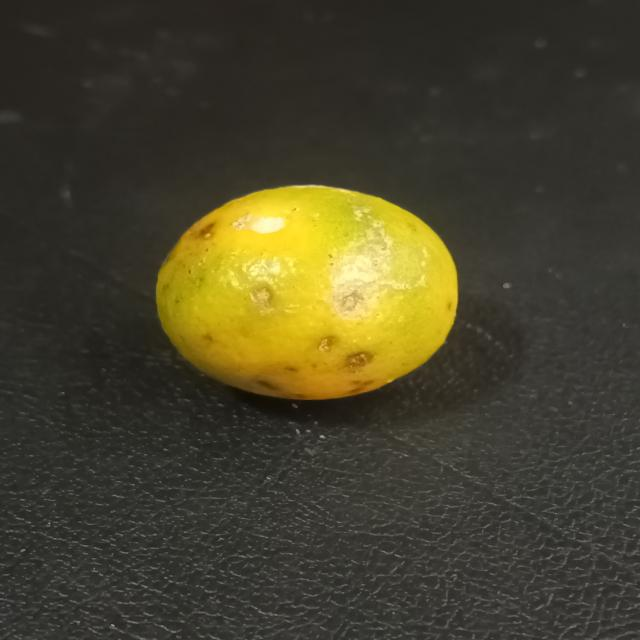black spot: (150, 180, 466, 403)
